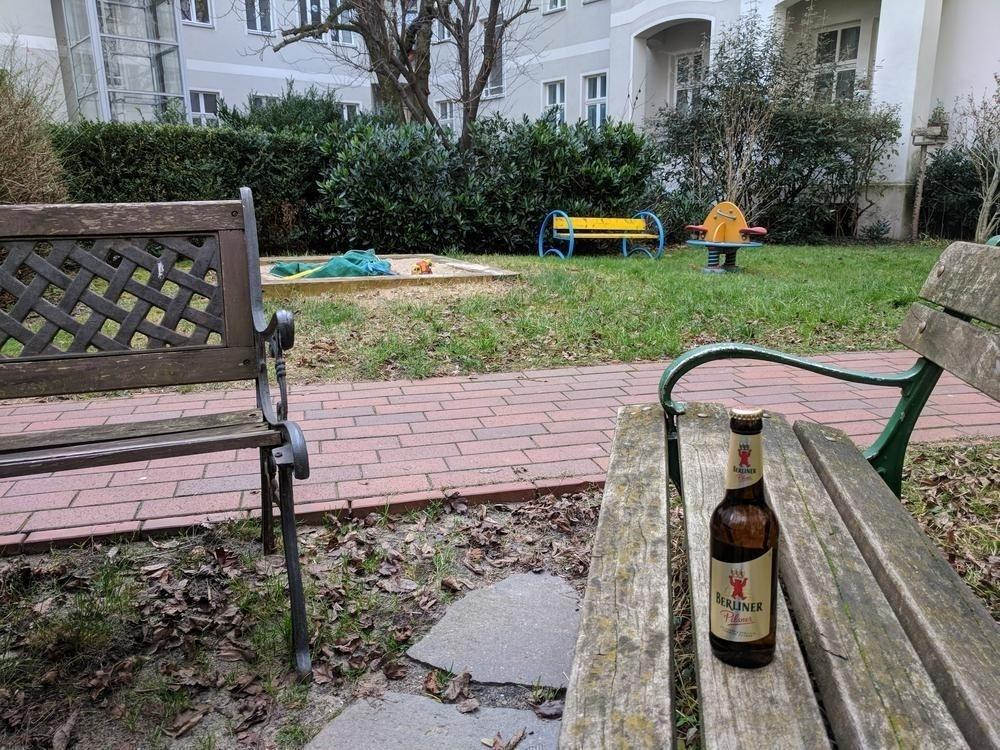bottle-glass: (707, 405, 782, 671)
